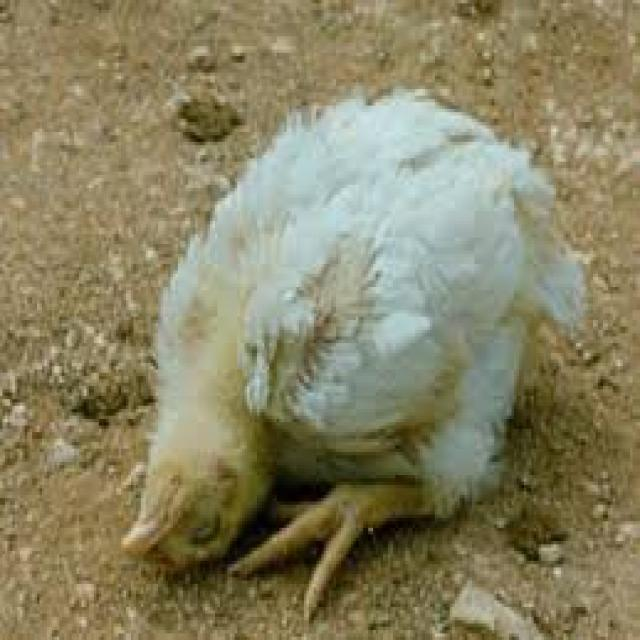Newcastle: (116, 288, 331, 611)
